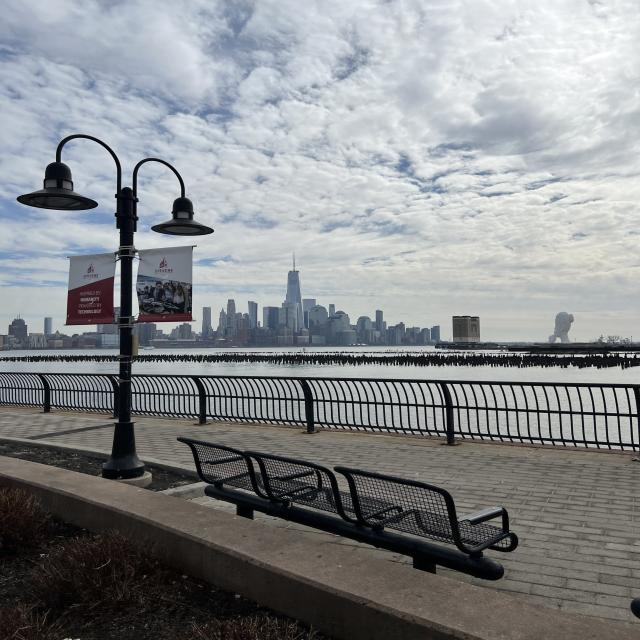WTC: (285, 254, 304, 306)
